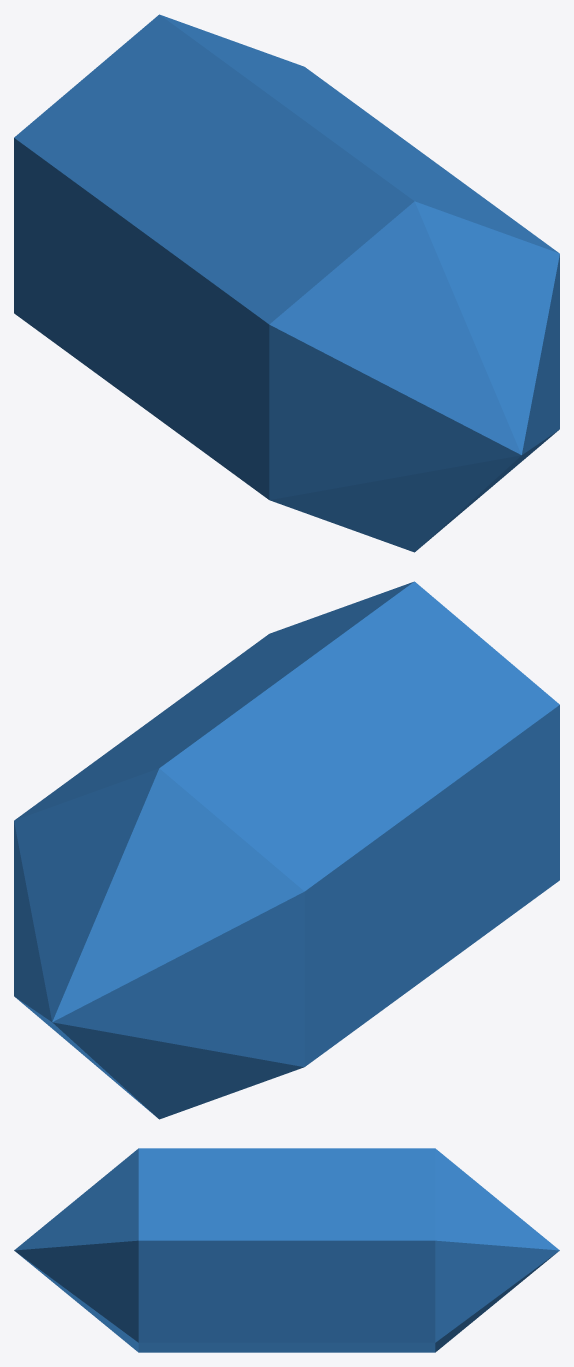
Rendered from Item (Mineral v.1).fbx.
The picture shows the model from 3 angles, top to bottom: view 1: azimuth 30°, elevation 25°; view 2: azimuth 150°, elevation 25°; view 3: azimuth 270°, elevation 25°; orthographic projection. The views are drawn at different scales.
Parts seen in each view (by area): view 1: item_mineral; view 2: item_mineral; view 3: item_mineral.
Part boxes in pixels (bbox=[...]): item_mineral: bbox=[14, 14, 559, 552]; item_mineral: bbox=[14, 581, 559, 1119]; item_mineral: bbox=[14, 1148, 559, 1352].
Size of the model in its own units: 13.84 by 15.98 by 38.72.
